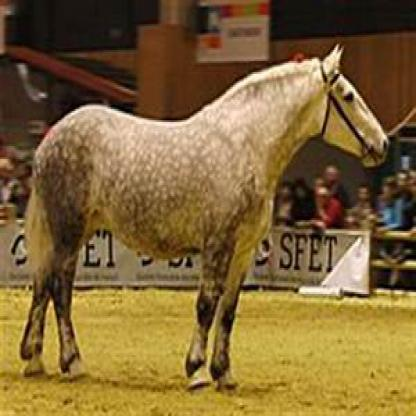horse: (19, 46, 391, 392)
